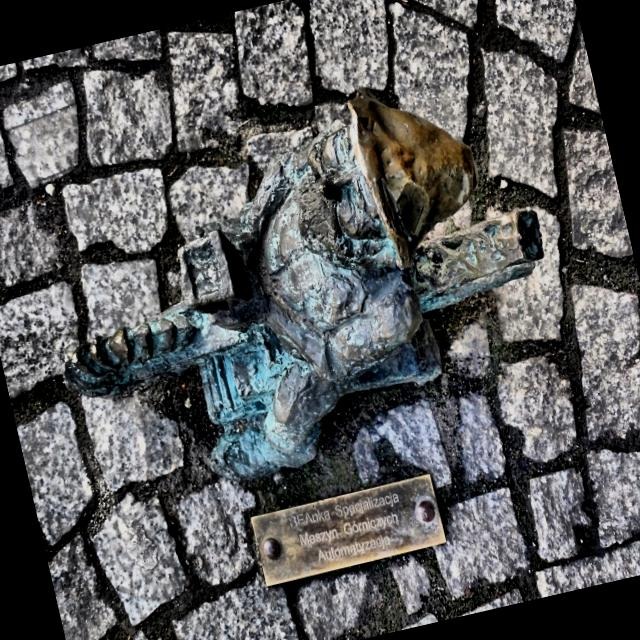Automatek: (63, 88, 543, 480)
